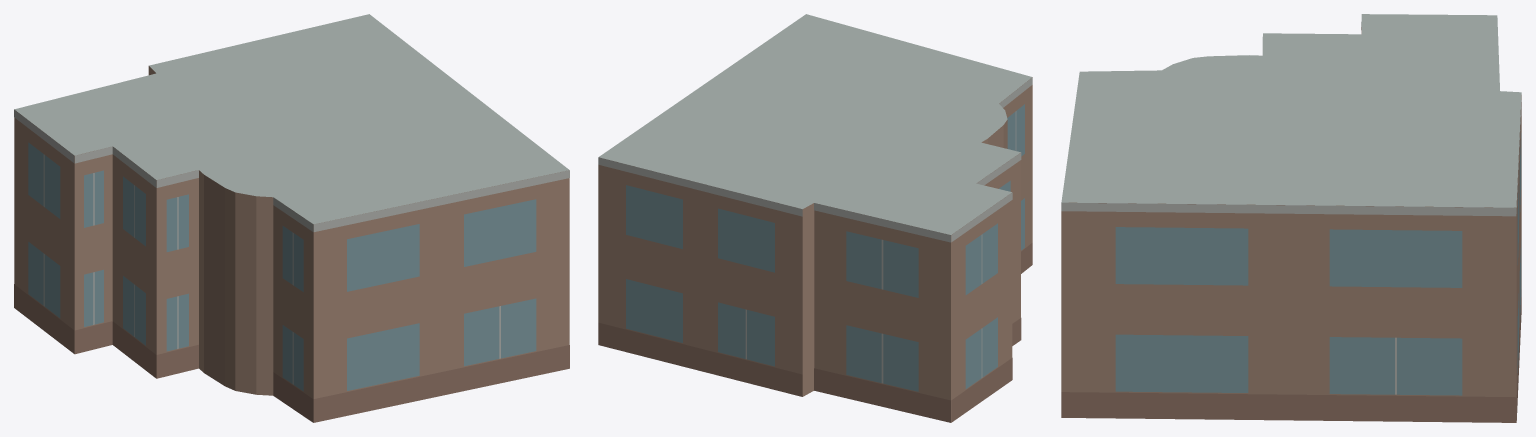
File: survey-upis-32836900.glb
3 views of the same model, side by side, from view 1: azimuth 30°, elevation 25°; view 2: azimuth 150°, elevation 25°; view 3: azimuth 270°, elevation 25° (orthographic). The views are drawn at different scales.
Parts seen in each view (by area): view 1: survey-upis-32836900.tmp; view 2: survey-upis-32836900.tmp; view 3: survey-upis-32836900.tmp.
Part boxes in pixels (left/top/right/bottom): survey-upis-32836900.tmp: left=14, top=14, right=569, bottom=422; survey-upis-32836900.tmp: left=598, top=14, right=1032, bottom=422; survey-upis-32836900.tmp: left=1061, top=14, right=1521, bottom=422.
Size of the model in its own units: 11.79 by 6.1 by 11.84.
